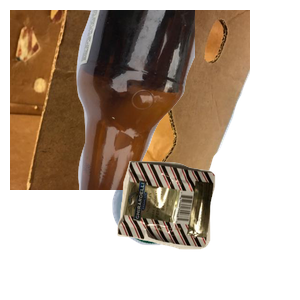cardboard: (10, 10, 250, 190)
glass: (60, 10, 300, 190)
plastic: (110, 164, 300, 300)
trash: (115, 158, 300, 300)
